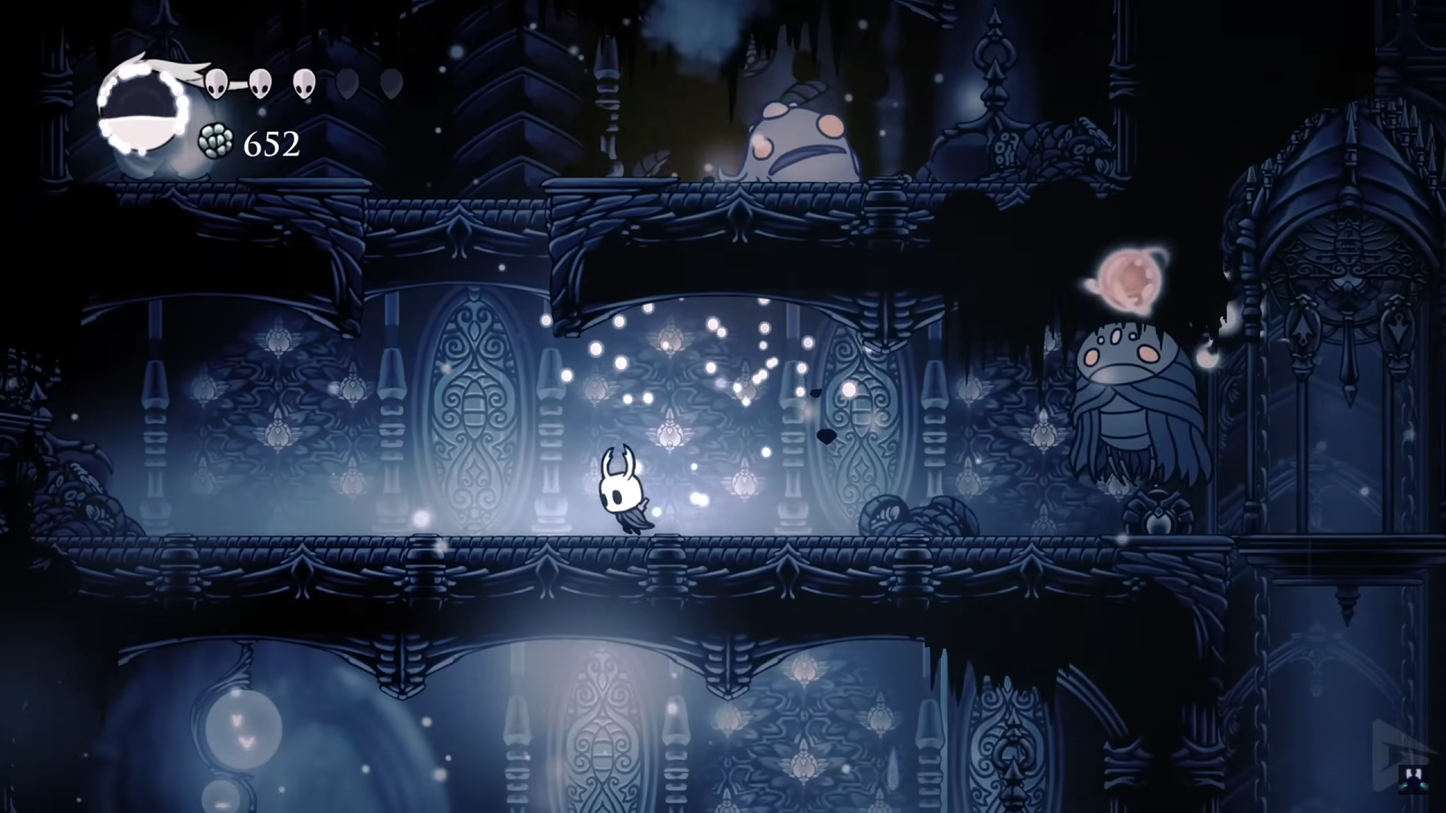HK: (593, 443, 657, 537)
